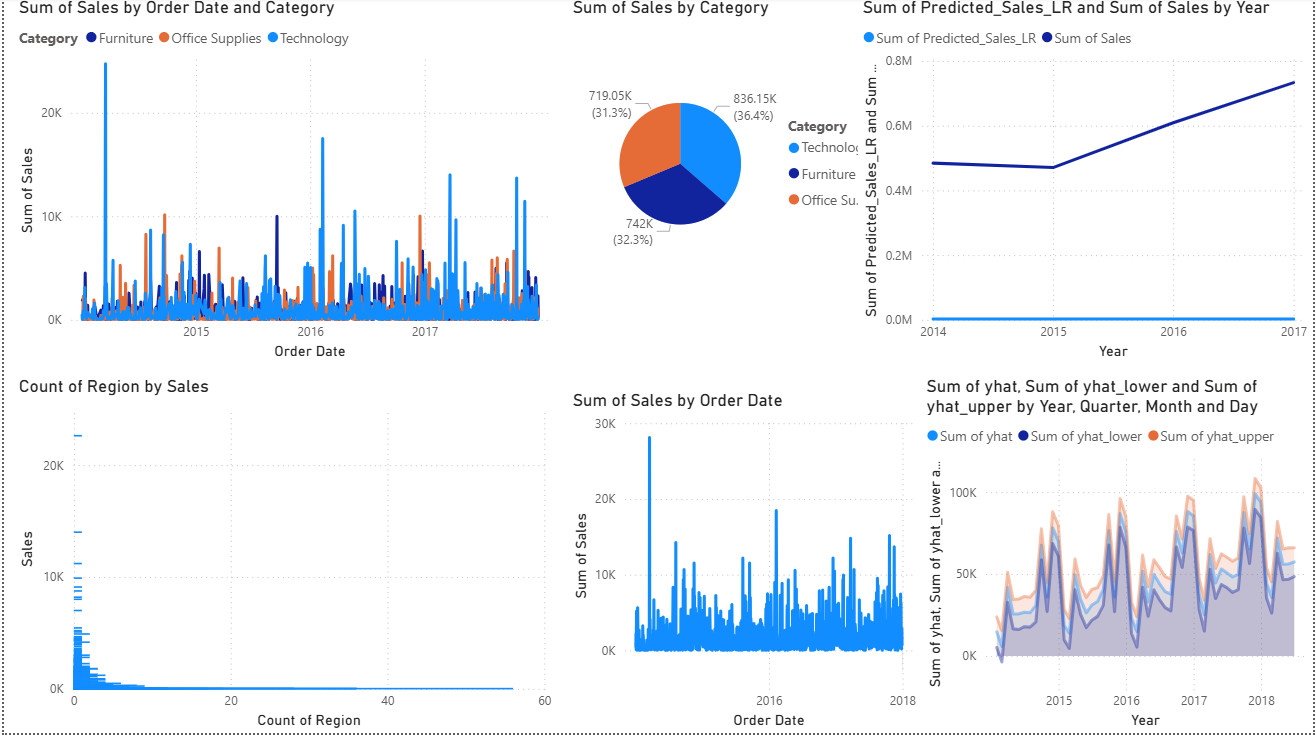

The page's visual inventory and layout, read from the dashboard file:
{"tool":"powerbi","page":{"name":"Page 1","canvas":[1280,720],"ordinal":0},"visuals":[{"type":"lineChart","fields":{"Category":["superstore.Order Date"],"Y":["Sum(superstore.Sales)"],"Series":["superstore.Category"]},"box":[9.6,0,531,359.5],"z":0},{"type":"clusteredBarChart","fields":{"Category":["superstore.Sales"],"Y":["CountNonNull(superstore.Region)"]},"box":[10,370,531,350],"z":1000},{"type":"pieChart","fields":{"Category":["superstore.Category"],"Y":["Sum(superstore.Sales)"]},"box":[551.6,0,311.5,307.4],"z":2000},{"type":"lineChart","fields":{"Category":["superstore.Order Date"],"Y":["Sum(superstore.Sales)"]},"box":[551.6,384.2,345.8,336.2],"z":3000},{"type":"lineChart","fields":{"Category":["sales_lr_monthly.Order Date.Variation.Date Hierarchy.Year","sales_lr_monthly.Order Date.Variation.Date Hierarchy.Quarter","sales_lr_monthly.Order Date.Variation.Date Hierarchy.Month","sales_lr_monthly.Order Date.Variation.Date Hierarchy.Day"],"Y":["Sum(sales_lr_monthly.Predicted_Sales_LR)","Sum(sales_lr_monthly.Sales)"]},"box":[835.7,0,444.6,359.5],"z":3001},{"type":"lineChart","fields":{"Category":["forecast_prophet.ds.Variation.Date Hierarchy.Year","forecast_prophet.ds.Variation.Date Hierarchy.Quarter","forecast_prophet.ds.Variation.Date Hierarchy.Month","forecast_prophet.ds.Variation.Date Hierarchy.Day"],"Y":["Sum(forecast_prophet.yhat)","Sum(forecast_prophet.yhat_lower)","Sum(forecast_prophet.yhat_upper)"]},"box":[897.4,370.5,382.8,349.9],"z":3002}]}

Visuals, with their boxes in screenshot pixels (x1, y1, x2, y2), scaled from the page's 1280x720 canvas onto the 1316x740 screenshot:
lineChart - superstore.Order Date x Sum(superstore.Sales): <bbox>10, 0, 556, 369</bbox>
clusteredBarChart - superstore.Sales x CountNonNull(superstore.Region): <bbox>10, 380, 556, 739</bbox>
pieChart - superstore.Category x Sum(superstore.Sales): <bbox>567, 0, 887, 316</bbox>
lineChart - superstore.Order Date x Sum(superstore.Sales): <bbox>567, 395, 923, 739</bbox>
lineChart - sales_lr_monthly.Order Date.Variation.Date Hierarchy.Year x sales_lr_monthly.Order Date.Variation.Date Hierarchy.Quarter: <bbox>859, 0, 1315, 369</bbox>
lineChart - forecast_prophet.ds.Variation.Date Hierarchy.Year x forecast_prophet.ds.Variation.Date Hierarchy.Quarter: <bbox>923, 381, 1315, 739</bbox>
